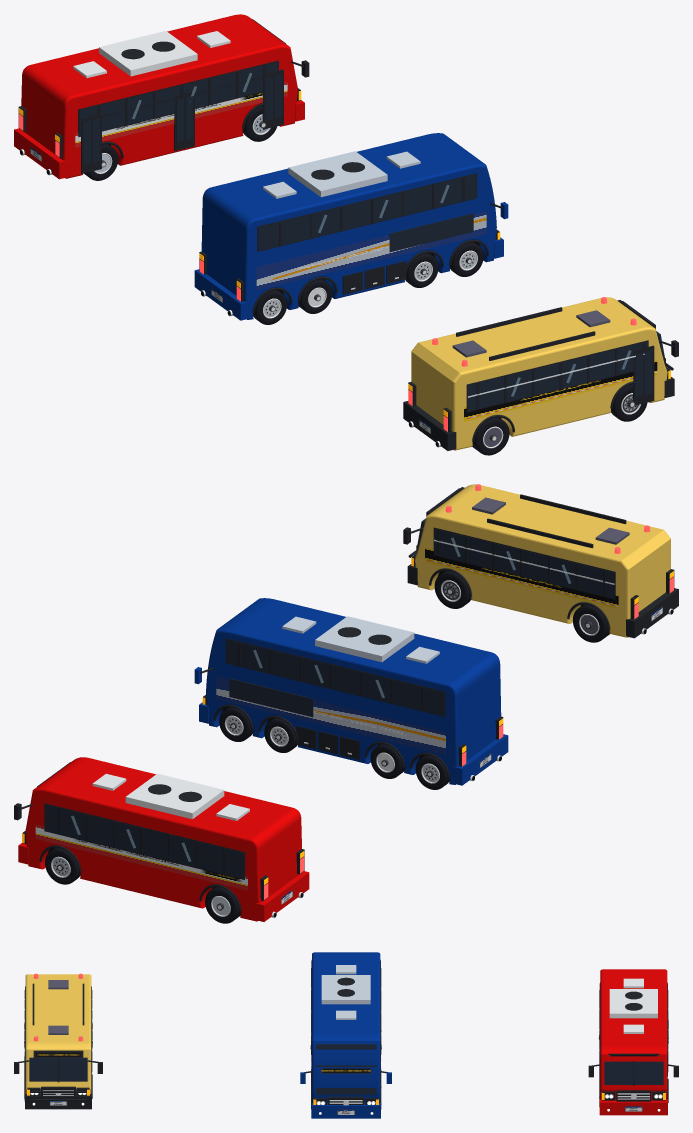
Rendered from buses_3_cartoon.glb.
3 renders of one model, top to bottom at view 1: azimuth 30°, elevation 25°; view 2: azimuth 150°, elevation 25°; view 3: azimuth 270°, elevation 25°, orthographic. The views are drawn at different scales.
Visible parts, largest first — view 1: part_fuel_tank (×3), part_seat (×3), part_side_fairings (×3), part_tail_section (×3), BusAxle2_RightWheelSpin (×3), BusAxle1_RightWheelSpin (×2), BusAxle4_RightWheelSpin, BusAxle3_RightWheelSpin; view 2: part_fuel_tank (×3), part_seat (×3), part_side_fairings (×3), part_tail_section (×3), BusAxle2_LeftWheelSpin (×3), BusAxle1_LeftWheelSpin (×3), BusAxle4_LeftWheelSpin, BusAxle3_LeftWheelSpin; view 3: part_fuel_tank (×3), part_seat (×3), part_tail_section (×3), part_side_fairings (×3), part_headlight_assembly (×3).
Part boxes in pixels (x1=…): part_fuel_tank (×3): x1=21, y1=14, x2=667, y2=450; part_seat (×3): x1=78, y1=60, x2=665, y2=412; part_side_fairings (×3): x1=14, y1=60, x2=678, y2=450; part_tail_section (×3): x1=73, y1=31, x2=636, y2=366; BusAxle2_RightWheelSpin (×3): x1=242, y1=105, x2=647, y2=421; BusAxle1_RightWheelSpin (×2): x1=253, y1=290, x2=509, y2=455; BusAxle4_RightWheelSpin: x1=449, y1=242, x2=483, y2=276; BusAxle3_RightWheelSpin: x1=405, y1=253, x2=438, y2=287; part_fuel_tank (×3): x1=25, y1=484, x2=670, y2=921; part_seat (×3): x1=44, y1=518, x2=615, y2=879; part_side_fairings (×3): x1=14, y1=487, x2=678, y2=921; part_tail_section (×3): x1=92, y1=484, x2=650, y2=820; BusAxle2_LeftWheelSpin (×3): x1=45, y1=570, x2=471, y2=884; BusAxle1_LeftWheelSpin (×3): x1=205, y1=604, x2=609, y2=923; BusAxle4_LeftWheelSpin: x1=219, y1=707, x2=253, y2=741; BusAxle3_LeftWheelSpin: x1=264, y1=718, x2=297, y2=752; part_fuel_tank (×3): x1=24, y1=952, x2=668, y2=1109; part_seat (×3): x1=24, y1=960, x2=668, y2=1106; part_tail_section (×3): x1=32, y1=965, x2=657, y2=1041; part_side_fairings (×3): x1=14, y1=1058, x2=678, y2=1118; part_headlight_assembly (×3): x1=27, y1=1050, x2=665, y2=1114.
Size of the model in its own units: 2.27 by 0.9498 by 6.47.
Materials: 67 (12 with a texture image).
